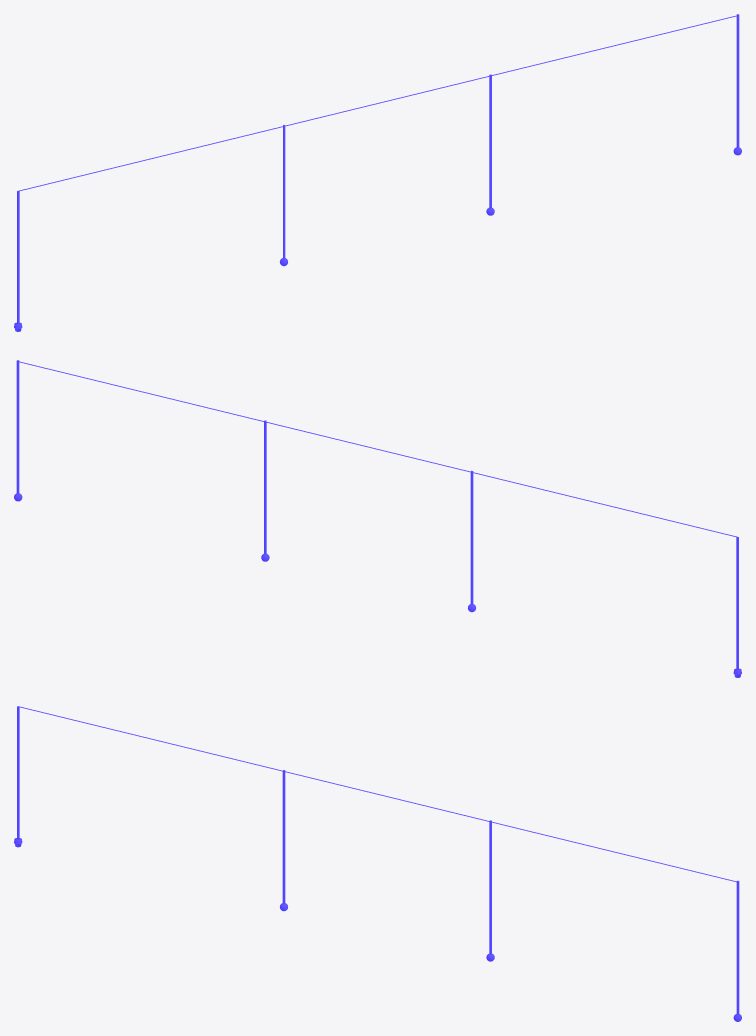
The model's file is SegnSocial3.gltf.
The picture shows the model from 3 angles, top to bottom: view 1: azimuth 30°, elevation 25°; view 2: azimuth 150°, elevation 25°; view 3: azimuth 330°, elevation 25°; orthographic projection.
Visible parts, largest first — view 1: ListnerModuli.013; view 2: ListnerModuli.013; view 3: ListnerModuli.013.
Part boxes in pixels (x1,y1,x2,y2): ListnerModuli.013: (14, 14, 741, 331); ListnerModuli.013: (14, 360, 741, 677); ListnerModuli.013: (14, 706, 741, 1021).
Size of the model in its own units: 4.21 by 0.7772 by 0.0421.
